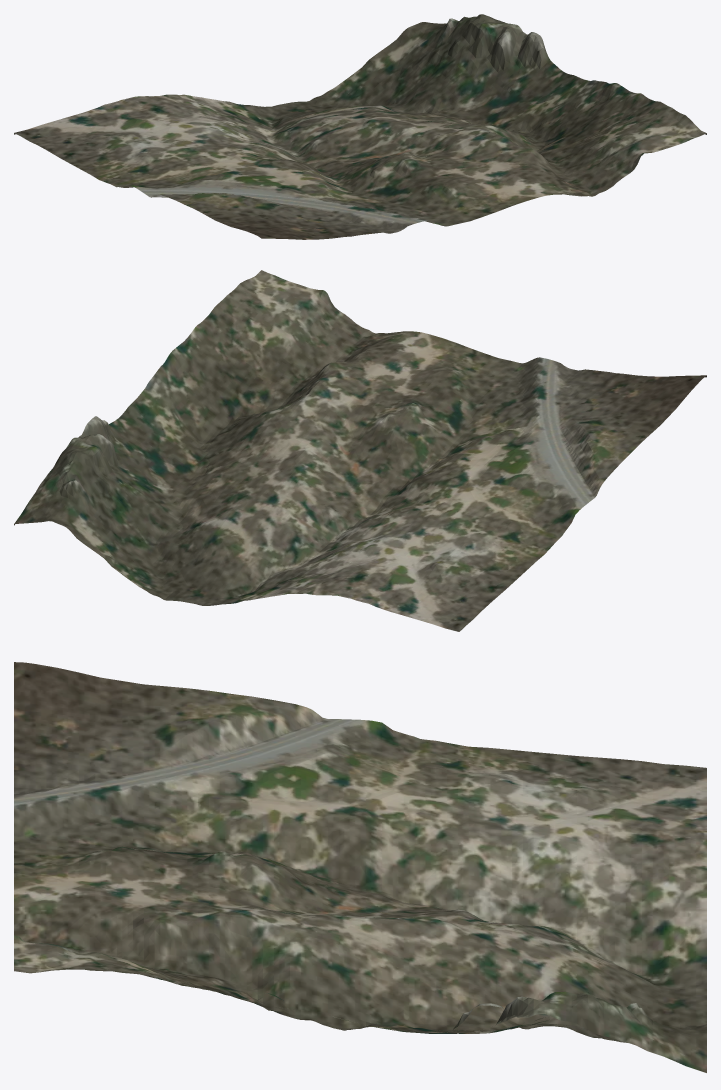
3 renders of one model, top to bottom at view 1: azimuth 30°, elevation 25°; view 2: azimuth 150°, elevation 25°; view 3: azimuth 270°, elevation 25°, orthographic. The views are drawn at different scales.
Size of the model in its own units: 250 by 63.01 by 241.
Materials: 1 (1 with a texture image).
